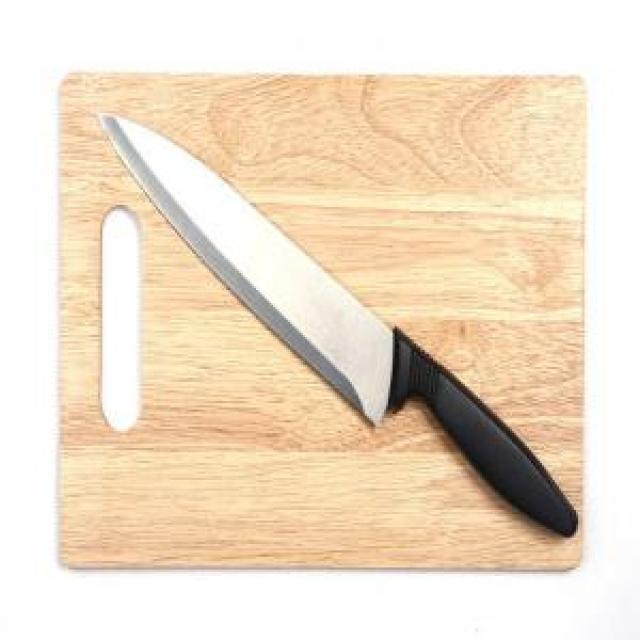knife: (96, 109, 580, 546)
